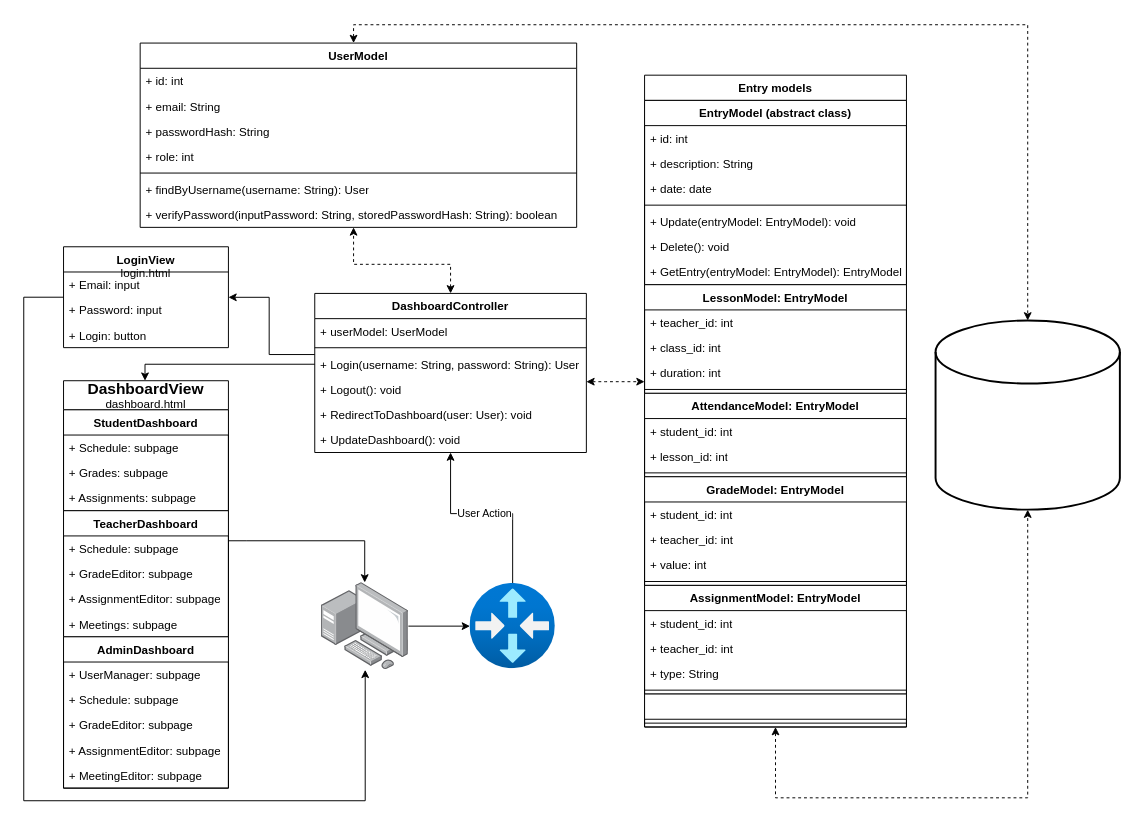
Some shapes in this 1138 by 825 pixel diagram are drawn without their labels. The centre of each missing label's shape, as x and y in pixels:
Database: pixel 1027 414
MeetingModel: EntryModel: pixel 775 710
Route Processor: pixel 512 625
User Screen: pixel 364 625
